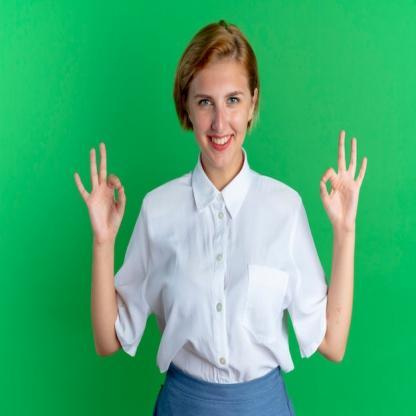ok: (318, 126, 372, 240), (70, 140, 128, 246)
